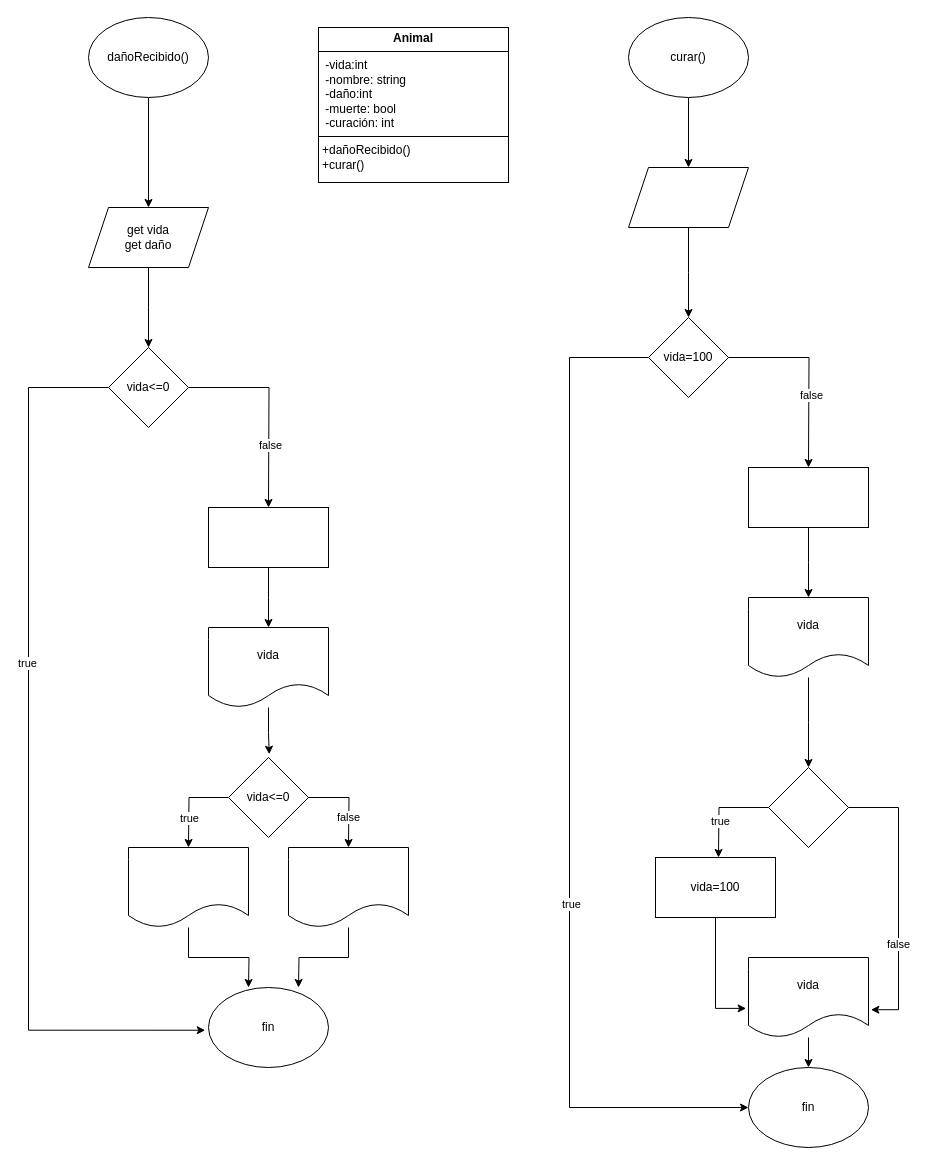
The diagram is 927 pixels wide and 1165 high, and some of its shapes have lost their labels. Each missing label, with the box of its shape:
get vida get curación: (628, 166, 748, 228)
muerto=false: (288, 846, 408, 928)
muerto=true: (128, 846, 248, 928)
vida=vida+curación: (748, 466, 868, 528)
vida=vida-daño: (208, 506, 328, 568)
vida>100: (768, 766, 848, 848)
